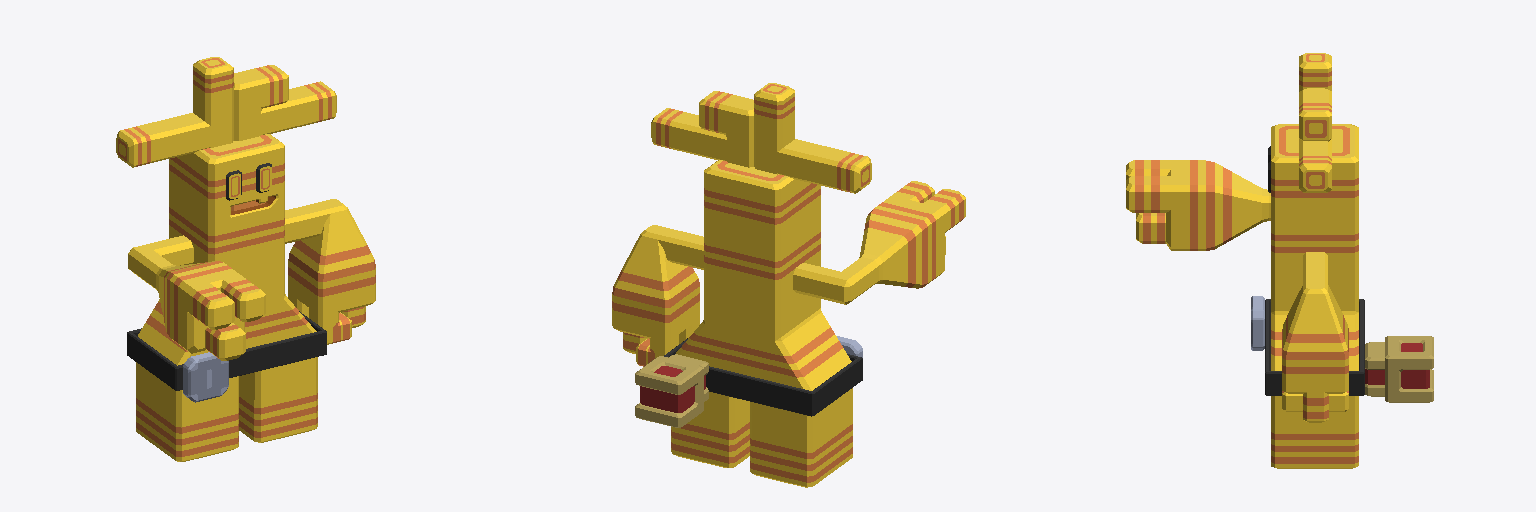
The picture shows the model from 3 angles: view 1: azimuth 30°, elevation 25°; view 2: azimuth 150°, elevation 25°; view 3: azimuth 270°, elevation 25°; orthographic projection.
Parts seen in each view (by area): view 1: model; view 2: model; view 3: model.
Boxes of the visible parts, box(x1,y1,x2,y2) form: model: box(116, 57, 375, 461); model: box(612, 83, 965, 487); model: box(1126, 53, 1433, 468).
Size of the model in its own units: 2.52 by 3.64 by 2.74.
Materials: 1 (1 with a texture image).